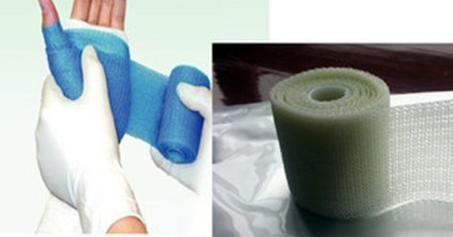bandage: (272, 67, 452, 223), (44, 20, 209, 163)
gloves: (33, 44, 153, 234), (150, 84, 211, 196)
